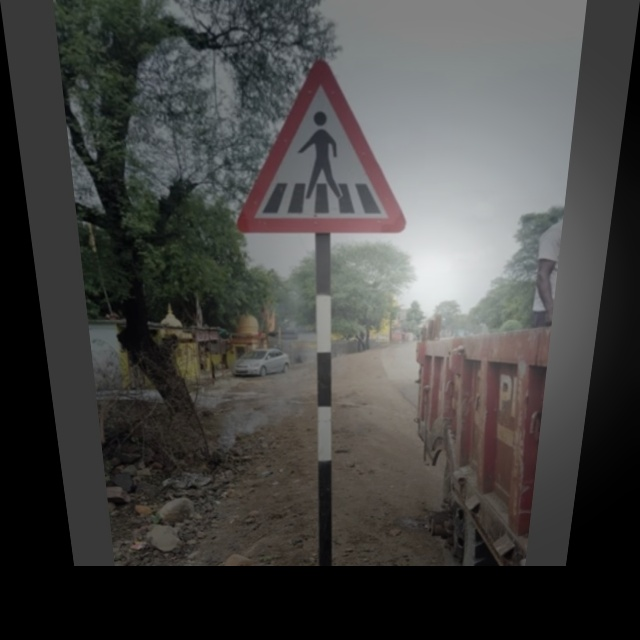Pedestrian_Crossing: (233, 63, 422, 237)
